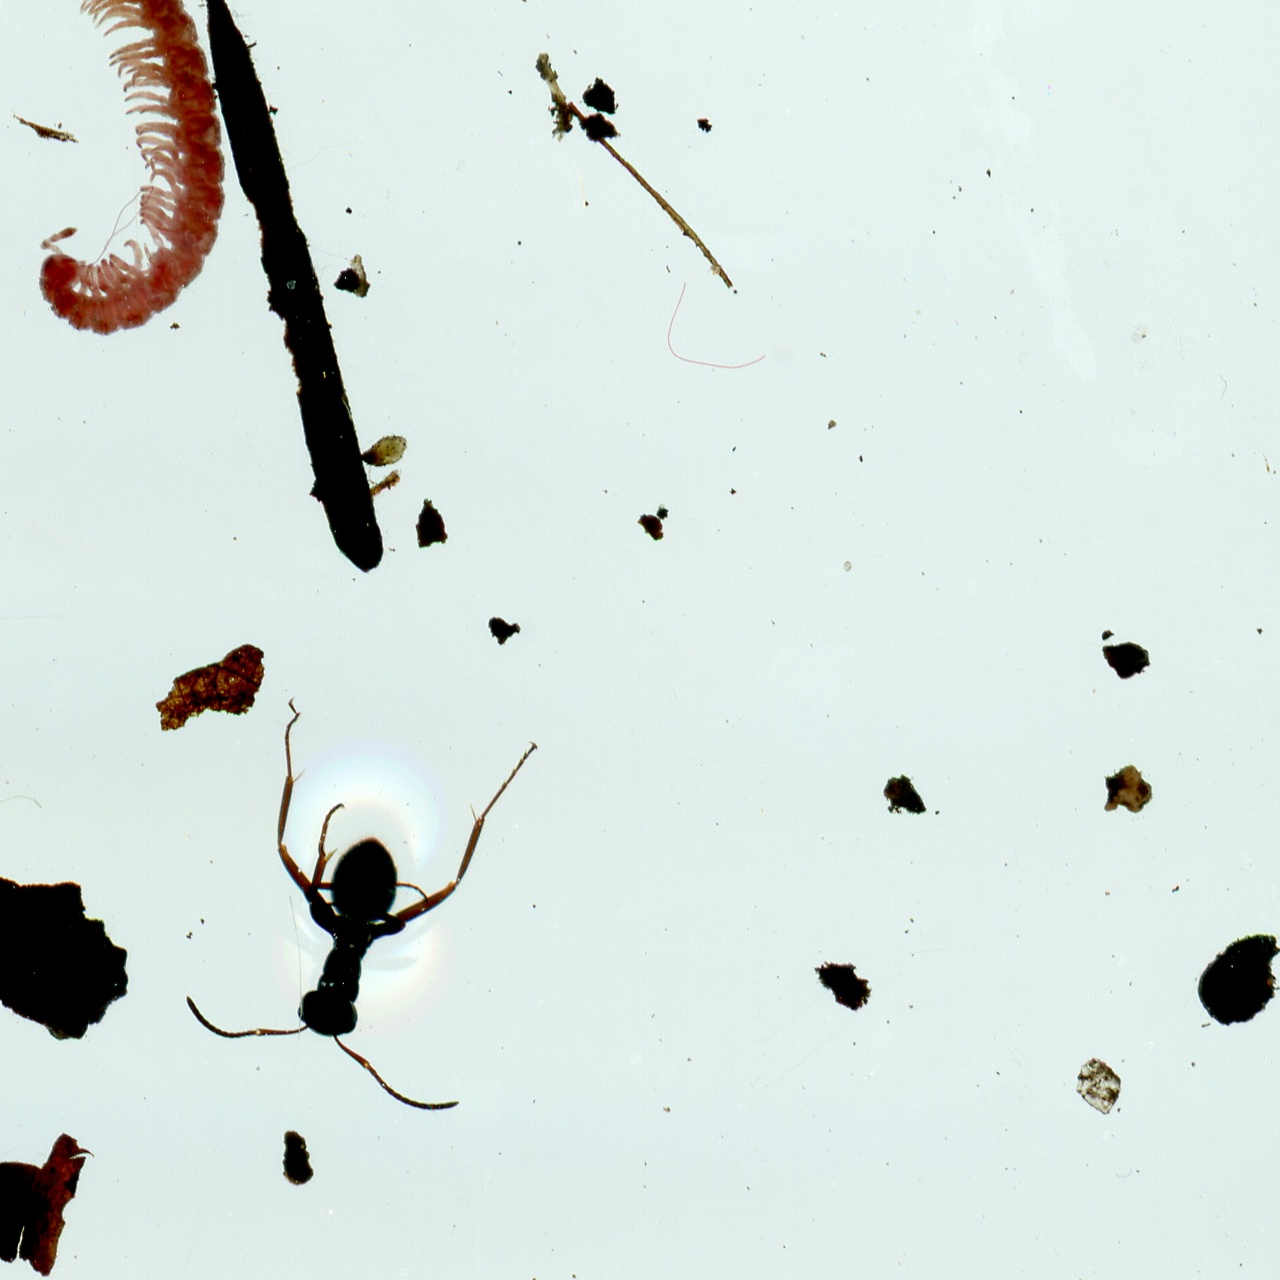arthropod: (175, 690, 550, 1136), (0, 0, 267, 365)
